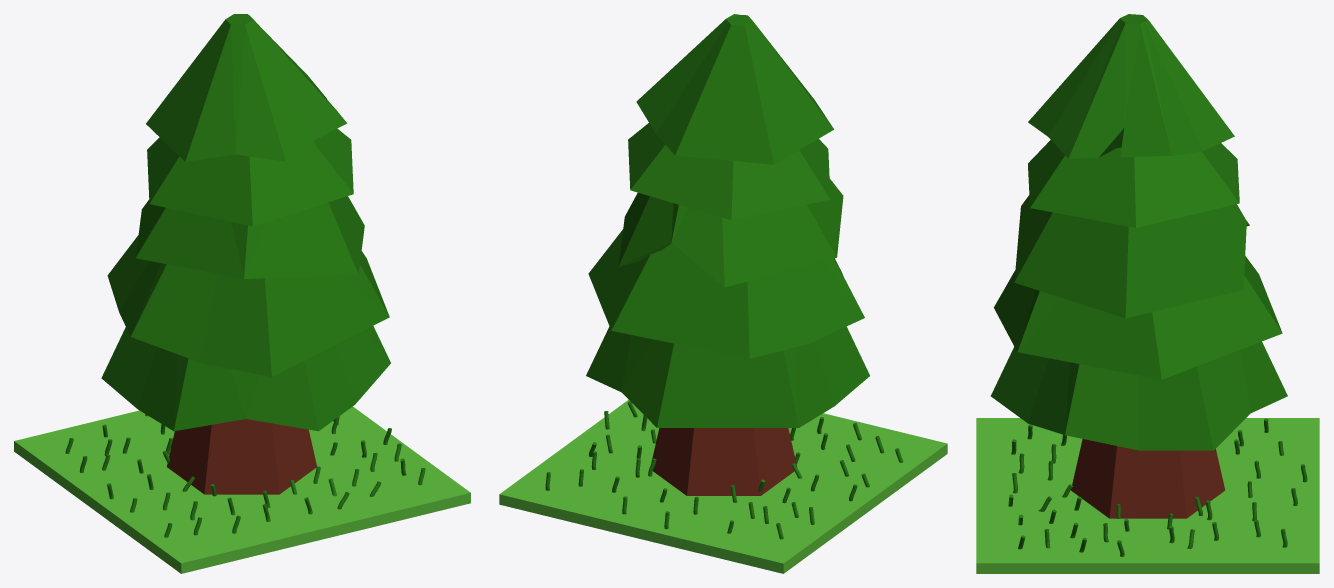
The model's file is Treetile1.fbx.
The picture shows the model from 3 angles, left to right: view 1: azimuth 30°, elevation 25°; view 2: azimuth 150°, elevation 25°; view 3: azimuth 270°, elevation 25°; orthographic projection. The views are drawn at different scales.
Visible parts, largest first — view 1: Base.002; view 2: Base.002; view 3: Base.002.
Part boxes in pixels (left/top/right/bottom): Base.002: left=14, top=14, right=470, bottom=573; Base.002: left=499, top=14, right=947, bottom=573; Base.002: left=976, top=14, right=1319, bottom=573.
Bounding box in the file's own units: 200 × 308 × 200.
